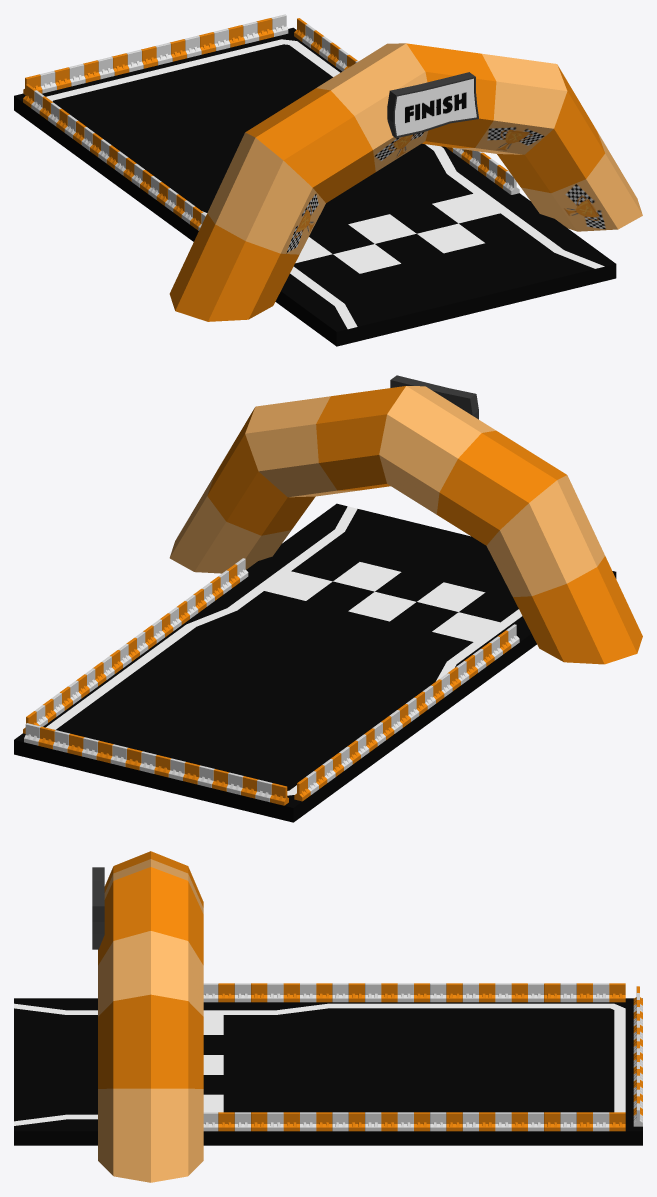
Rendered from finish2_export.fbx.
3 views of the same model, one above another, from view 1: azimuth 30°, elevation 25°; view 2: azimuth 150°, elevation 25°; view 3: azimuth 270°, elevation 25° (orthographic). The views are drawn at different scales.
Parts seen in each view (by area): view 1: Torus.001, Cube, Cube.003, Cube.005, Cube.006, Cube.004; view 2: Torus.001, Cube.003, Cube, Cube.005, Cube.006, Cube.004; view 3: Cube.003, Torus.001, Cube, Cube.005, Cube.006, Cube.004.
Boxes of the visible parts, x1,y1,x2,y2 form: Torus.001: (169, 43, 642, 321); Cube: (175, 148, 616, 346); Cube.003: (14, 27, 445, 227); Cube.005: (23, 18, 519, 230); Cube.006: (23, 14, 288, 95); Cube.004: (387, 72, 478, 138); Torus.001: (169, 386, 642, 664); Cube.003: (14, 624, 454, 822); Cube: (184, 503, 616, 703); Cube.005: (23, 558, 519, 801); Cube.006: (24, 723, 288, 805); Cube.004: (390, 375, 478, 419); Cube.003: (328, 998, 642, 1145); Torus.001: (98, 851, 203, 1182); Cube: (14, 998, 328, 1145); Cube.005: (203, 983, 625, 1131); Cube.006: (633, 986, 642, 1126); Cube.004: (92, 867, 104, 949).
Size of the model in its own units: 33.07 by 14.89 by 40.
9 materials, 2 textured.
